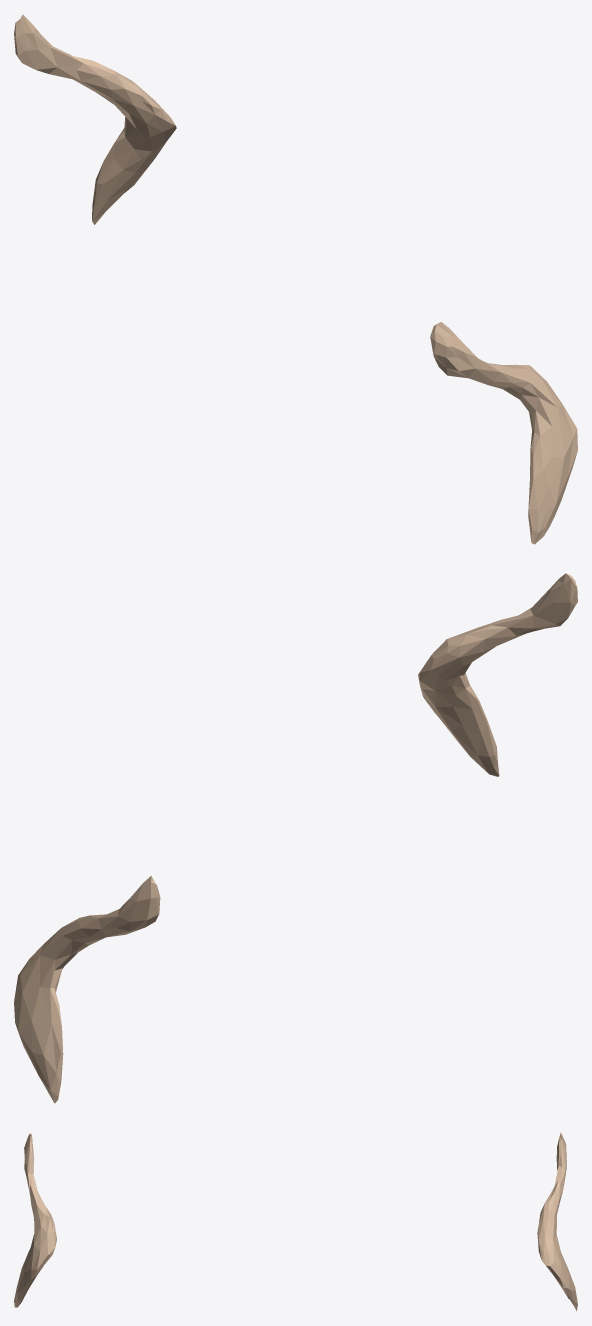
3 views of the same model, one above another, from view 1: azimuth 30°, elevation 25°; view 2: azimuth 150°, elevation 25°; view 3: azimuth 270°, elevation 25° (orthographic). The views are drawn at different scales.
Parts seen in each view (by area): view 1: 549009223.obj; view 2: 549009223.obj; view 3: 549009223.obj.
Boxes of the visible parts, x1=… form: 549009223.obj: x1=14, y1=14, x2=577, y2=544; 549009223.obj: x1=14, y1=573, x2=577, y2=1103; 549009223.obj: x1=14, y1=1132, x2=577, y2=1310.
Size of the model in its own units: 741 by 1118 by 3735.
